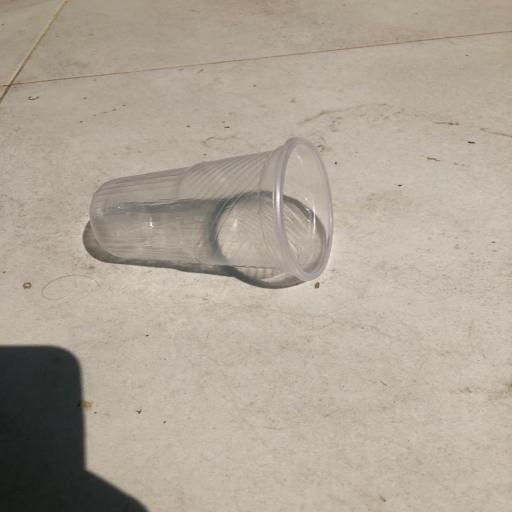waste: (58, 125, 368, 291)
